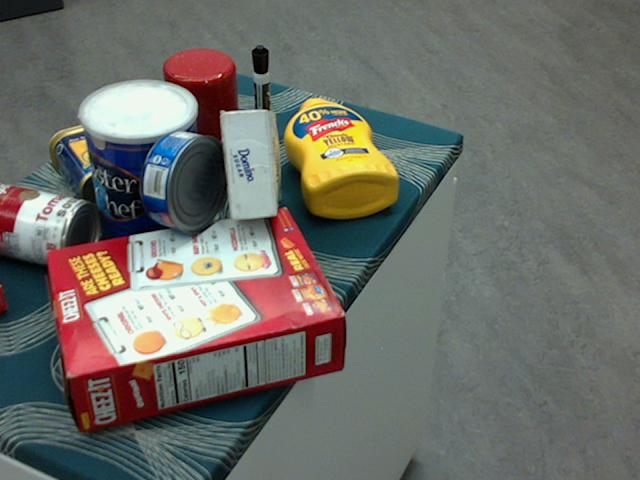cracker_box: (48, 207, 344, 430)
gelatin_box: (0, 282, 9, 312)
large_marker: (251, 44, 270, 149)
master_chef_can: (79, 81, 203, 265)
mug: (161, 49, 243, 148)
mustard_bottle: (283, 97, 398, 218)
potted_meat_can: (49, 114, 172, 210)
sugar_box: (224, 109, 277, 220)
tomato_soup_can: (0, 179, 99, 270)
tuna_fish_can: (139, 129, 230, 232)
